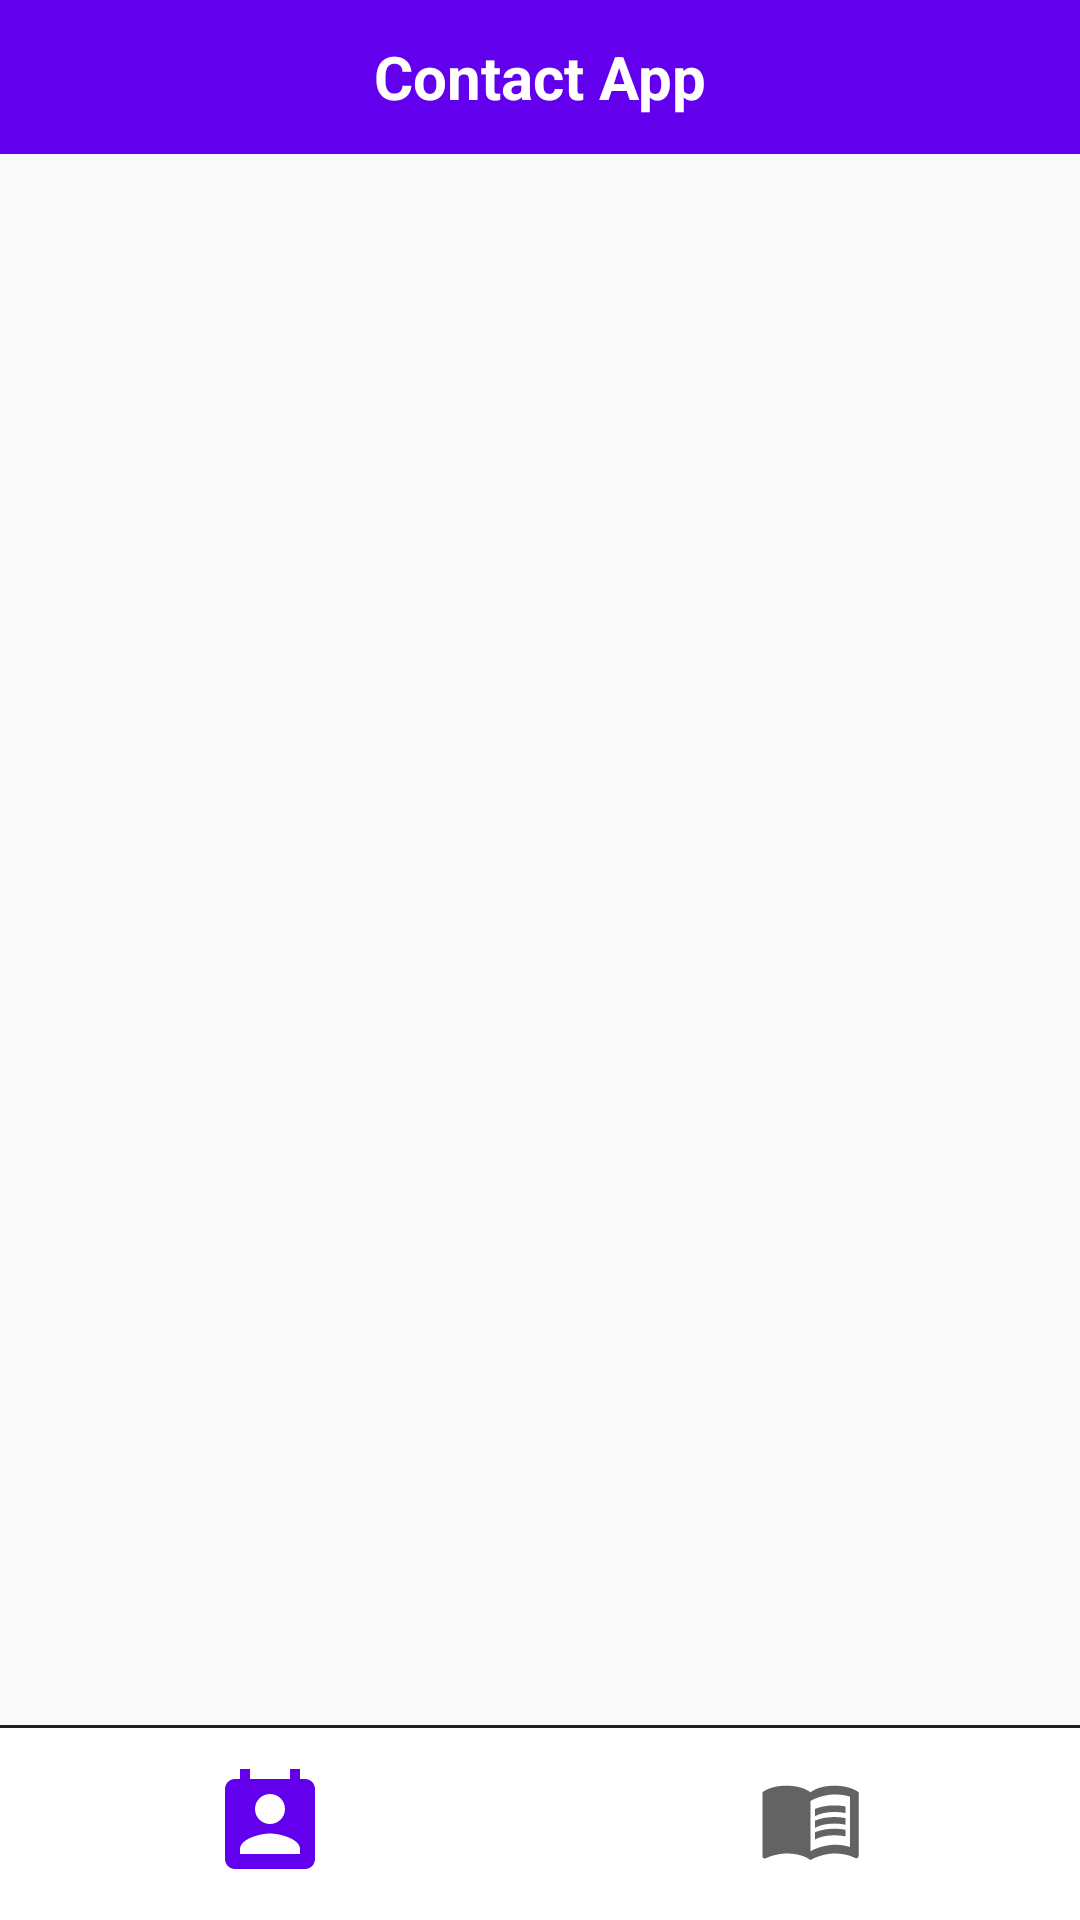

Icon click points for this 1080 × 1920 phone screenshot, format point (x, y):
contact warna: point (270, 1819)
phone book: point (810, 1822)
